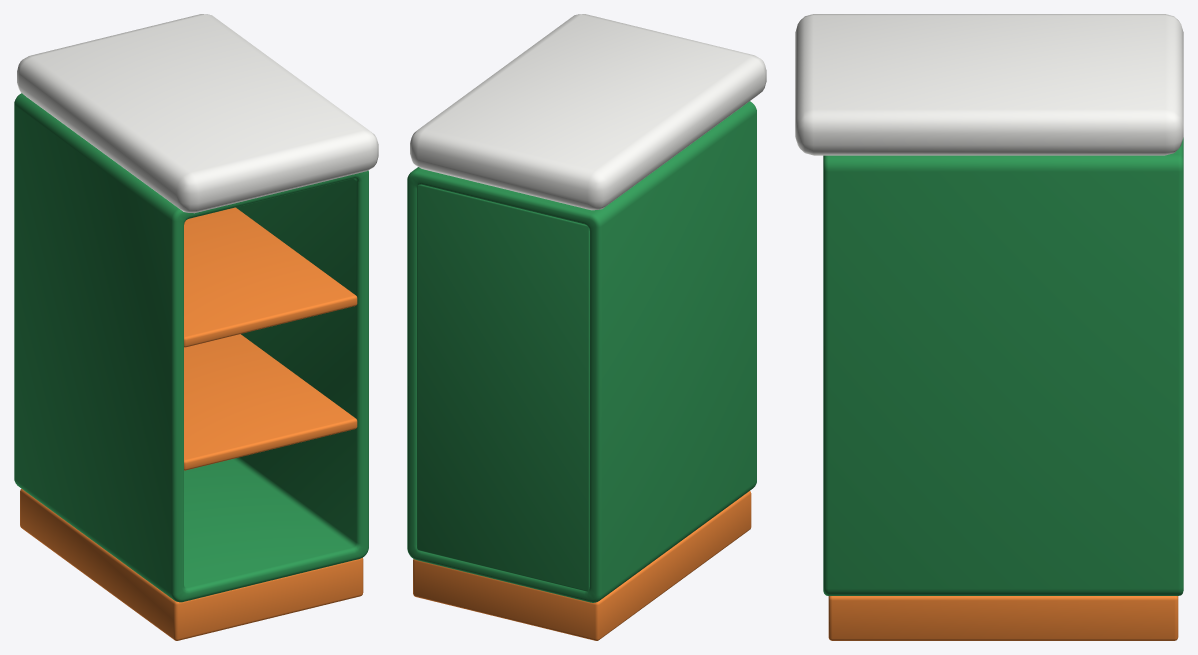
File: nicho_cozinha_verde.glb
3 views of the same model, side by side, from view 1: azimuth 30°, elevation 25°; view 2: azimuth 150°, elevation 25°; view 3: azimuth 270°, elevation 25° (orthographic). The views are drawn at different scales.
Visible parts, largest first — view 1: nicho_cozinha_verde; view 2: nicho_cozinha_verde; view 3: nicho_cozinha_verde.
Boxes of the visible parts, box(x1,y1,x2,y2) form: nicho_cozinha_verde: box(14, 14, 378, 640); nicho_cozinha_verde: box(407, 14, 766, 640); nicho_cozinha_verde: box(795, 14, 1183, 640).
Size of the model in its own units: 0.398 by 0.9 by 0.599.
Materials: 1 (1 with a texture image).
